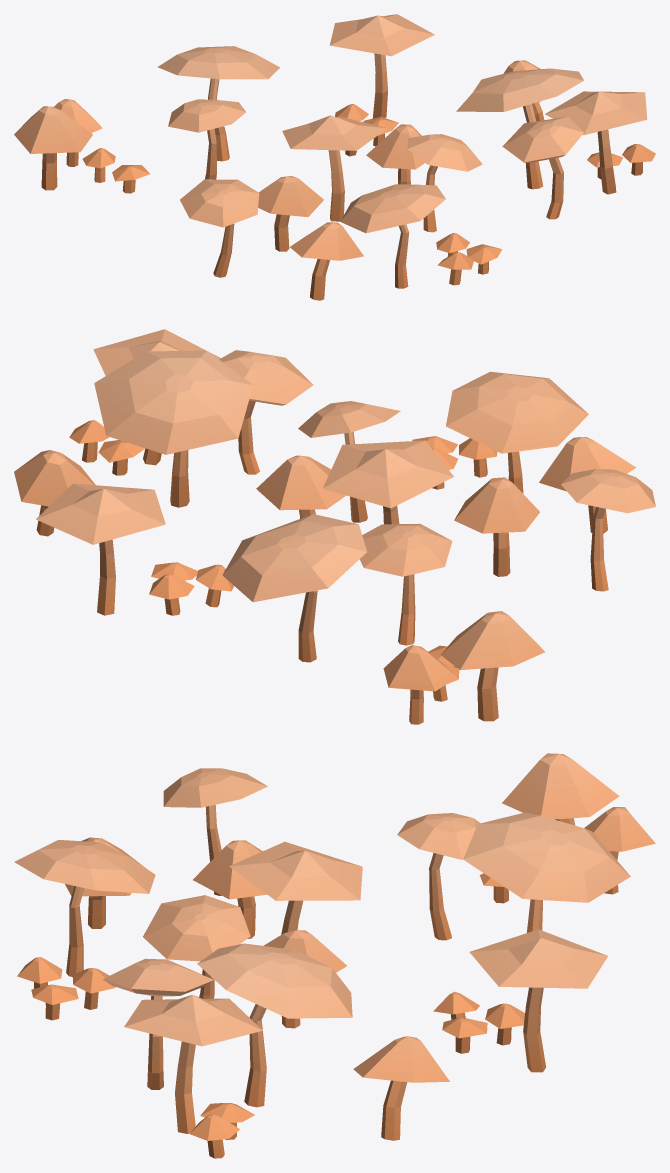
The model's file is SM_Exterior_Setas_01.fbx.
3 views of the same model, one above another, from view 1: azimuth 30°, elevation 25°; view 2: azimuth 150°, elevation 25°; view 3: azimuth 270°, elevation 25° (orthographic). The views are drawn at different scales.
Parts seen in each view (by area): view 1: SM_Exterior_Setas1; view 2: SM_Exterior_Setas1; view 3: SM_Exterior_Setas1.
Part boxes in pixels (x1,y1,x2,y2): SM_Exterior_Setas1: (14,14,655,300); SM_Exterior_Setas1: (14,329,655,724); SM_Exterior_Setas1: (14,753,655,1158).
Size of the model in its own units: 104 by 22.13 by 87.85.
